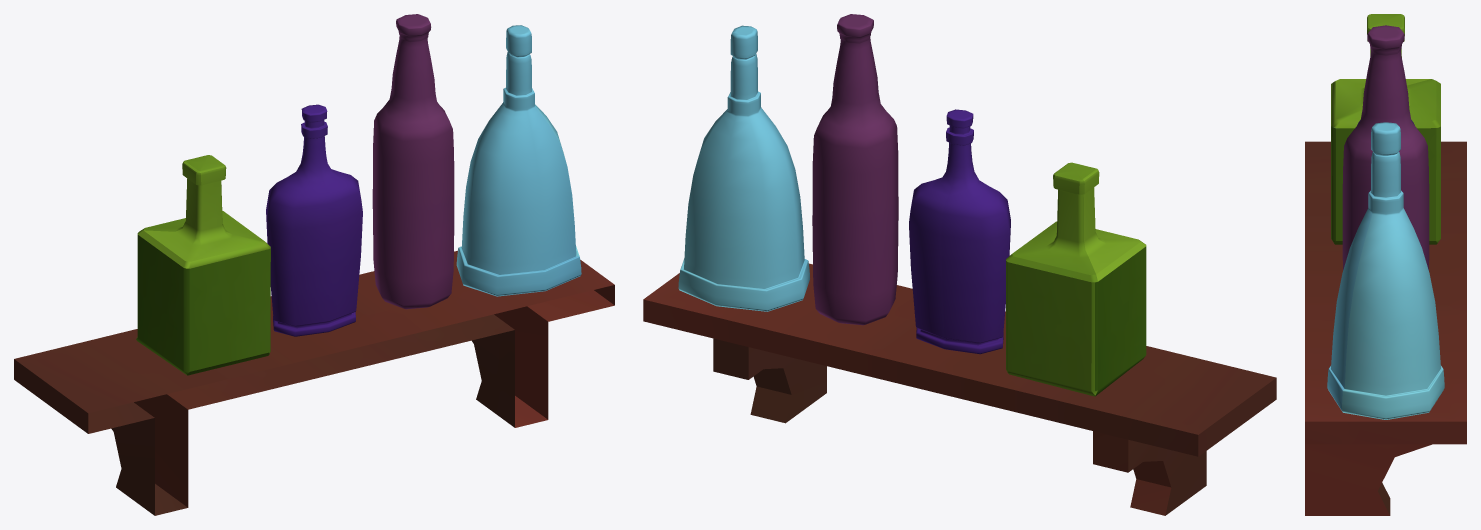
File: shelf_i_alcohol.fbx
The picture shows the model from 3 angles, left to right: view 1: azimuth 30°, elevation 25°; view 2: azimuth 150°, elevation 25°; view 3: azimuth 270°, elevation 25°; orthographic projection. The views are drawn at different scales.
Parts seen in each view (by area): view 1: shelf, tequila, absinth, beer, koniyak; view 2: shelf, tequila, absinth, beer, koniyak; view 3: shelf, absinth, beer, tequila.
Part boxes in pixels (x1,y1,x2,y2): shelf: (14,250,614,515); tequila: (136,155,270,375); absinth: (456,25,581,296); beer: (372,14,454,309); koniyak: (266,104,362,336); shelf: (643,263,1276,515); tequila: (1006,162,1146,396); absinth: (678,25,809,311); beer: (812,14,898,325); koniyak: (909,109,1010,354); shelf: (1305,141,1466,515); absinth: (1327,122,1444,419); beer: (1342,25,1429,270); tequila: (1331,14,1440,244).
Size of the model in its own units: 54.46 by 39.1 by 13.31.
Materials: 1 (1 with a texture image).
